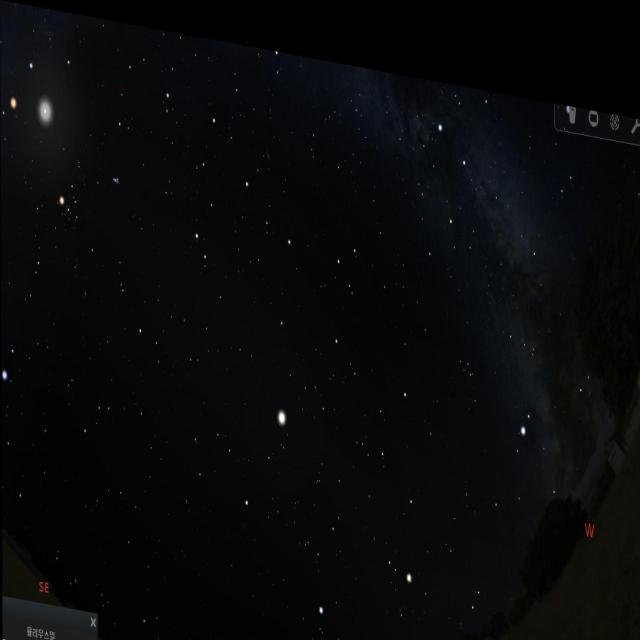cygnus: (433, 70, 534, 236)
moon: (35, 83, 62, 144)
pleiades: (106, 160, 125, 194)
taurus: (58, 141, 128, 255)
